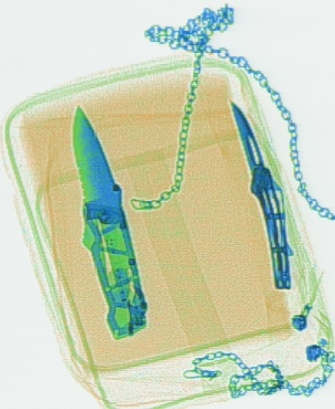knife: (71, 103, 146, 339), (227, 98, 293, 288)
